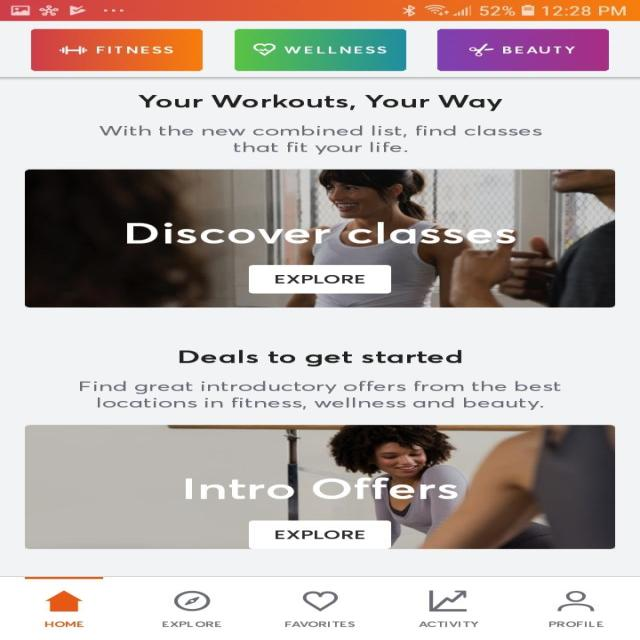Icon: (45, 590, 83, 611), (173, 590, 211, 611), (428, 590, 466, 611), (556, 590, 594, 611), (302, 590, 338, 611)
Image: (24, 168, 614, 308), (25, 424, 615, 549)
Text: (79, 380, 560, 410), (99, 125, 542, 155), (126, 222, 516, 244), (138, 94, 502, 111), (185, 477, 458, 499), (178, 349, 462, 366), (284, 620, 354, 626), (418, 620, 478, 626), (162, 621, 222, 627), (548, 621, 602, 627), (44, 621, 84, 627)
TextButton: (30, 29, 203, 72), (436, 29, 609, 71), (234, 29, 406, 71), (248, 520, 391, 549), (248, 265, 391, 293)
